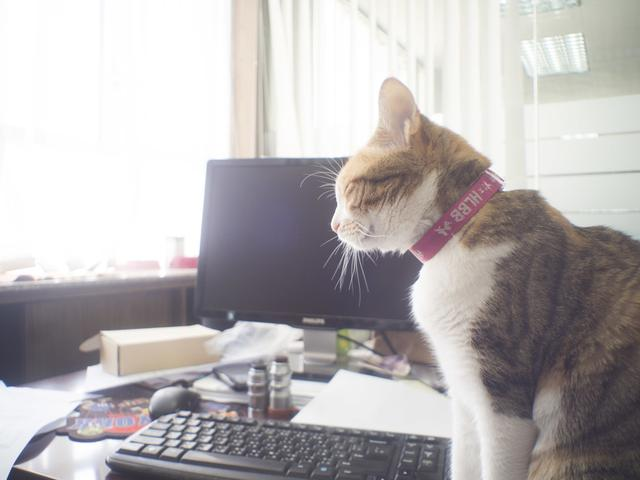cat: (295, 45, 640, 424)
